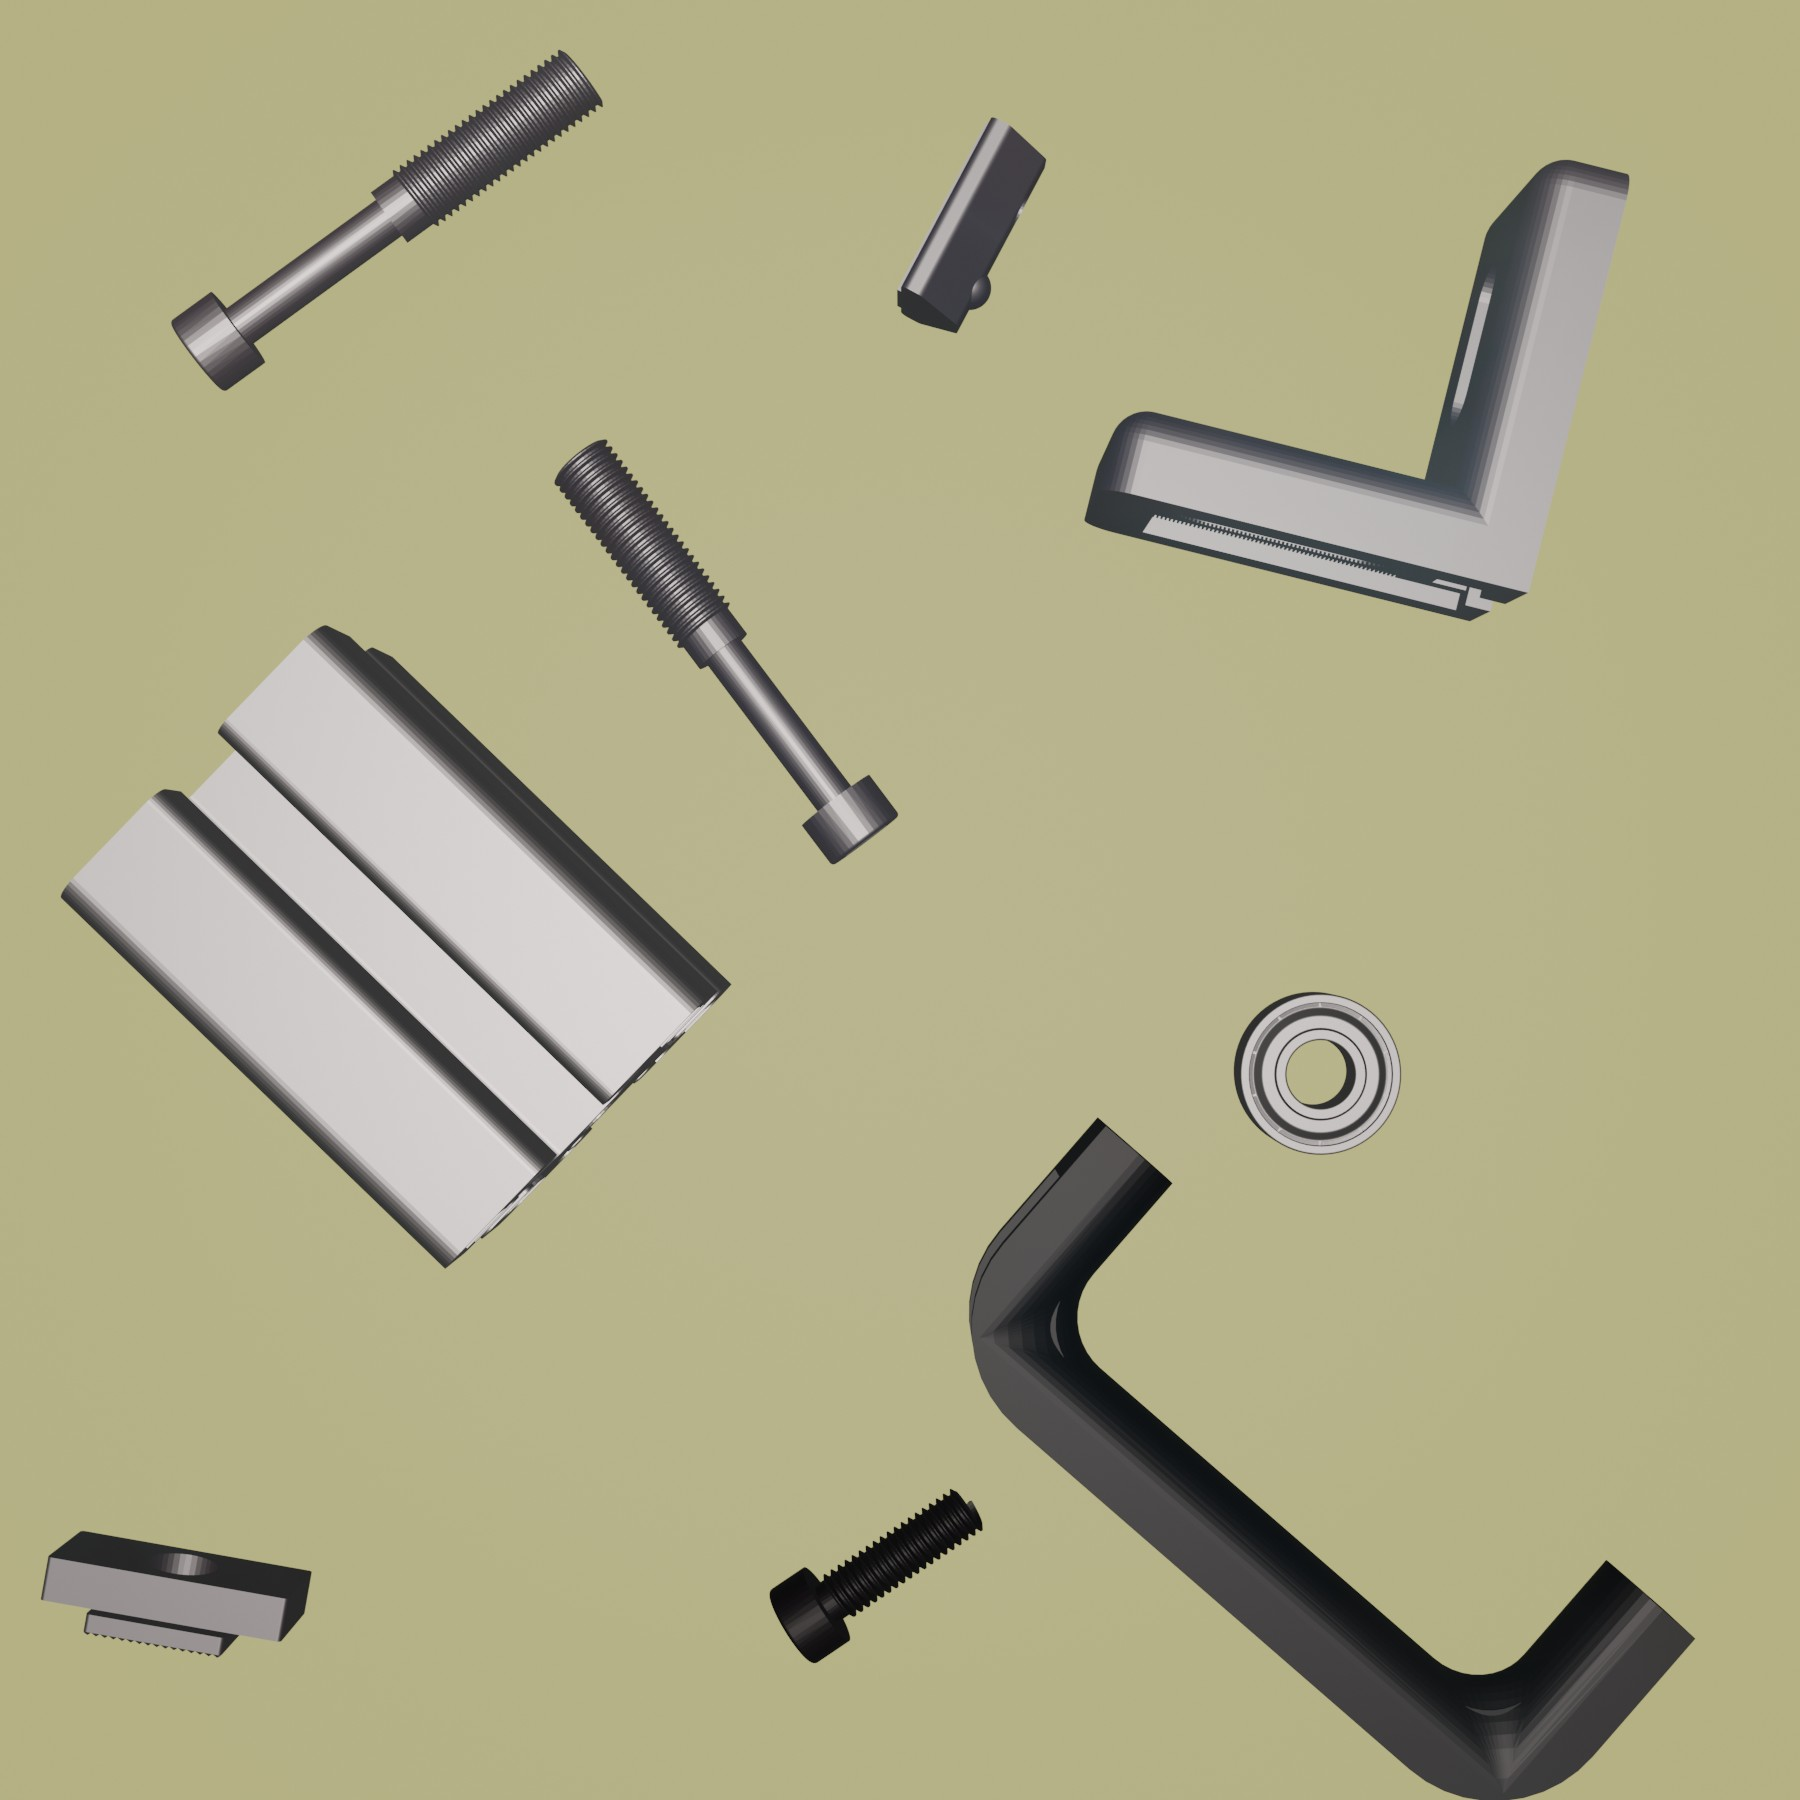Aluminium Extension: (58, 623, 734, 1269)
Ball Bearing: (1231, 989, 1404, 1157)
Multiwinkel: (1081, 158, 1634, 623)
Pull Handle: (966, 1116, 1698, 1800)
Shoulder Socket Head Cap Screw: (170, 48, 605, 396), (554, 438, 898, 865)
Socket Head Cap Screw: (766, 1487, 986, 1666)
T Nut Square: (36, 1526, 315, 1658)
T Spring Nut: (893, 114, 1048, 336)
